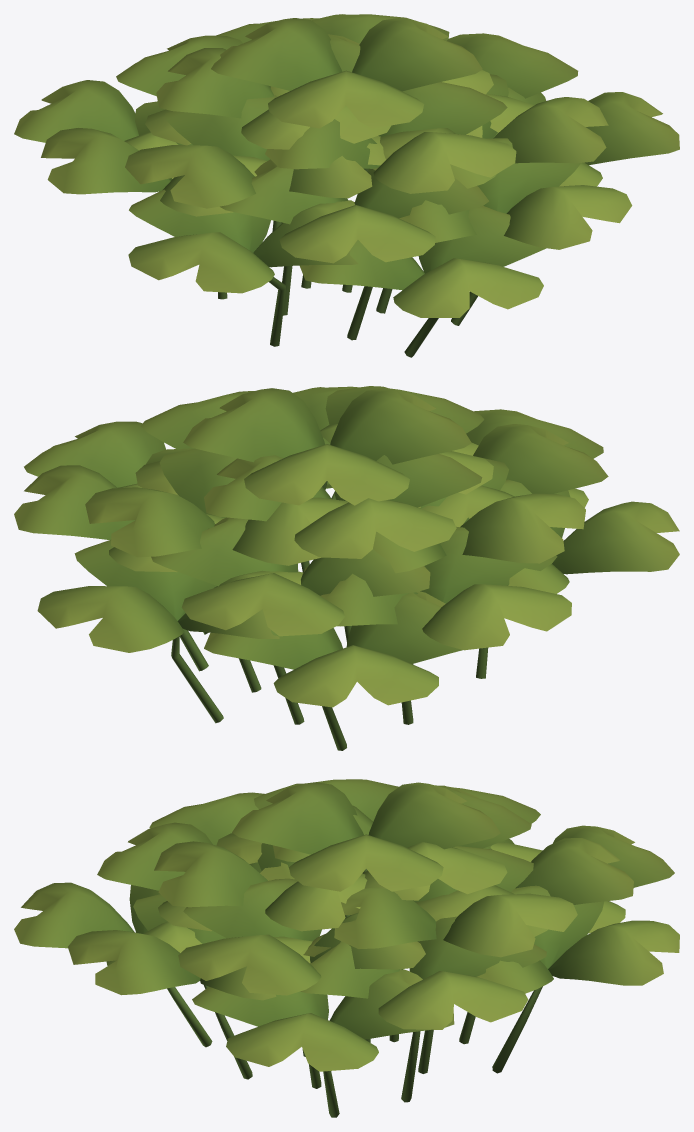
The model's file is roundleaf_mat.glb.
3 views of the same model, one above another, from view 1: azimuth 30°, elevation 25°; view 2: azimuth 150°, elevation 25°; view 3: azimuth 270°, elevation 25° (orthographic). The views are drawn at different scales.
Parts seen in each view (by area): view 1: Plant; view 2: Plant; view 3: Plant.
Part boxes in pixels (<box>): Plant: <box>14,14,679,357</box>; Plant: <box>14,386,679,750</box>; Plant: <box>14,779,679,1117</box>.
Bounding box in the file's own units: 0.3632 × 0.1549 × 0.3776.
